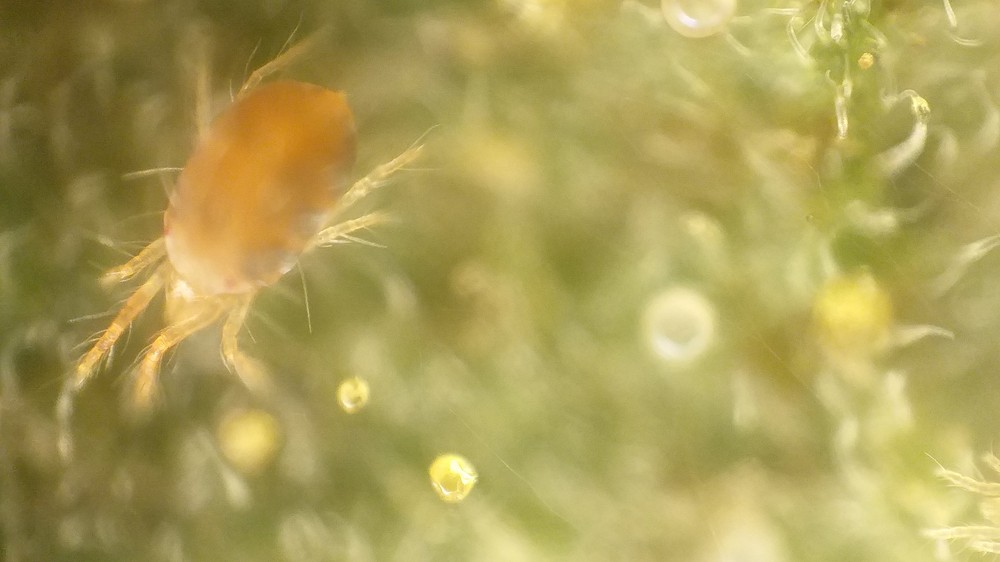Aracnido Rojo: (69, 26, 437, 418)
